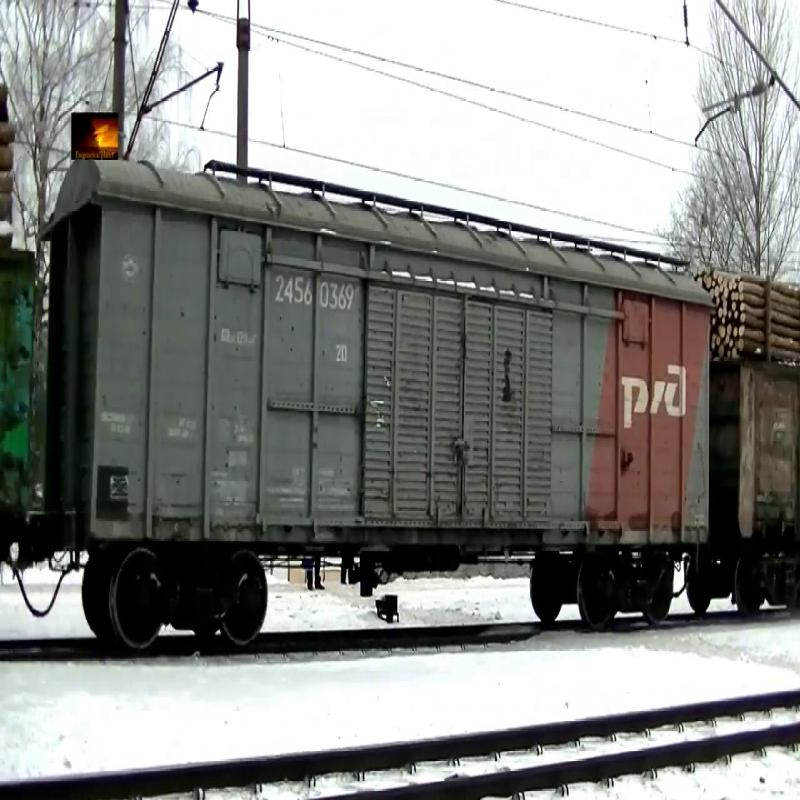train: (73, 156, 708, 622)
